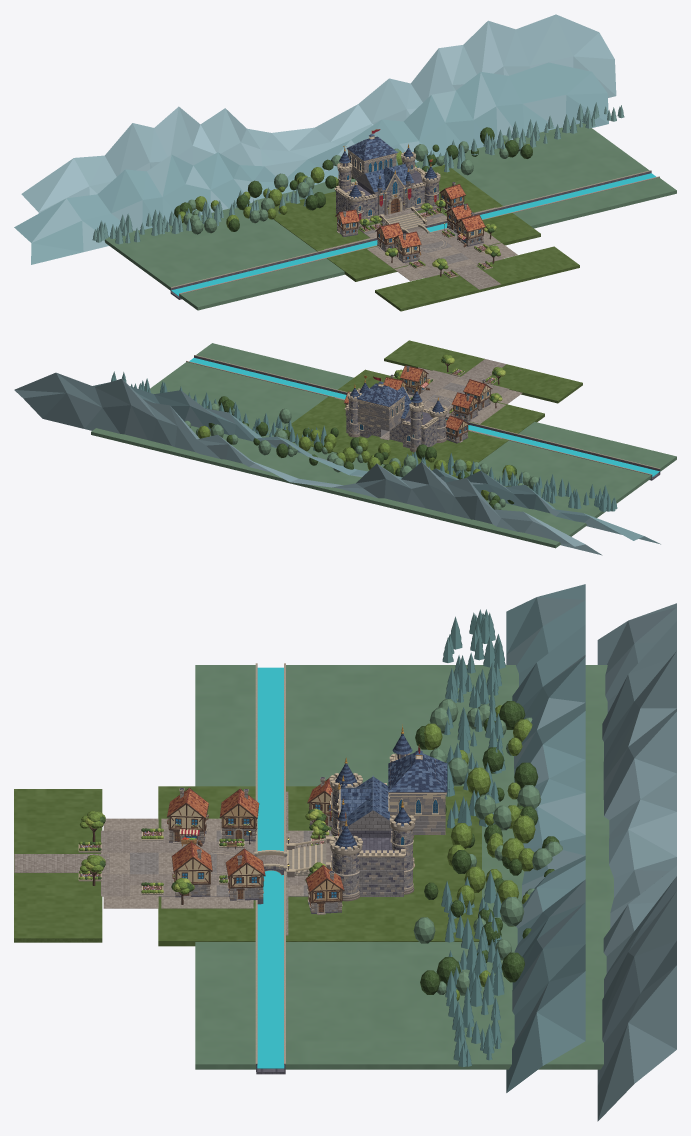
Rendered from Building_Town_CastleMarketSquare_1.fbx.
3 views of the same model, one above another, from view 1: azimuth 30°, elevation 25°; view 2: azimuth 150°, elevation 25°; view 3: azimuth 270°, elevation 25° (orthographic). The views are drawn at different scales.
Parts seen in each view (by area): view 1: Foothills west and east, Far slate mountains, Outer meadow, Plaza land, Woodland silhouettes, South bank, Paved plaza and streets, Wooded foothills West, Wooded foothills East, Canal water, Canal retaining walls, South square - reclaimed paving (+3 smaller); view 2: Outer meadow, Far slate mountains, Plaza land, Woodland silhouettes, Foothills west and east, South bank, Wooded foothills West, Canal water, Canal retaining walls, Paved plaza and streets, Wooded foothills East, Donjon - bonded limestone and granite courses (+3 smaller); view 3: Outer meadow, Far slate mountains, Foothills west and east, Plaza land, Woodland silhouettes, South bank, Canal water, Wooded foothills West, Wooded foothills East, Paved plaza and streets, South square - reclaimed paving, Donjon - coursed hipped slate roof (+9 smaller).
Part boxes in pixels (x1=…): Foothills west and east: x1=14, y1=62, x2=608, y2=264; Far slate mountains: x1=21, y1=14, x2=616, y2=213; Outer meadow: x1=104, y1=123, x2=676, y2=310; Plaza land: x1=261, y1=165, x2=540, y2=281; Woodland silhouettes: x1=174, y1=127, x2=532, y2=234; South bank: x1=375, y1=246, x2=579, y2=311; Paved plaza and streets: x1=324, y1=207, x2=500, y2=289; Wooded foothills West: x1=92, y1=180, x2=313, y2=244; Wooded foothills East: x1=396, y1=102, x2=624, y2=172; Canal water: x1=171, y1=173, x2=656, y2=295; Canal retaining walls: x1=170, y1=170, x2=659, y2=298; South square - reclaimed paving: x1=394, y1=243, x2=517, y2=281; Outer meadow: x1=91, y1=343, x2=676, y2=548; Far slate mountains: x1=14, y1=372, x2=602, y2=555; Plaza land: x1=286, y1=369, x2=544, y2=477; Woodland silhouettes: x1=184, y1=396, x2=538, y2=509; Foothills west and east: x1=93, y1=382, x2=660, y2=544; South bank: x1=384, y1=340, x2=582, y2=403; Wooded foothills West: x1=403, y1=451, x2=617, y2=511; Canal water: x1=189, y1=358, x2=659, y2=476; Canal retaining walls: x1=186, y1=355, x2=660, y2=479; Paved plaza and streets: x1=335, y1=359, x2=506, y2=438; Wooded foothills East: x1=111, y1=371, x2=326, y2=450; Donjon - bonded limestone and granite courses: x1=357, y1=395, x2=405, y2=430; Outer meadow: x1=195, y1=665, x2=613, y2=1069; Far slate mountains: x1=597, y1=603, x2=676, y2=1121; Foothills west and east: x1=506, y1=584, x2=585, y2=1092; Plaza land: x1=158, y1=786, x2=481, y2=946; Woodland silhouettes: x1=413, y1=699, x2=562, y2=1000; South bank: x1=14, y1=789, x2=102, y2=942; Canal water: x1=257, y1=667, x2=284, y2=1068; Wooded foothills West: x1=442, y1=609, x2=505, y2=828; Wooded foothills East: x1=441, y1=870, x2=504, y2=1066; Paved plaza and streets: x1=14, y1=791, x2=332, y2=935; South square - reclaimed paving: x1=101, y1=818, x2=158, y2=908; Donjon - coursed hipped slate roof: x1=388, y1=752, x2=447, y2=792.
Bounding box in the file's own units: 201 × 26 × 109.
